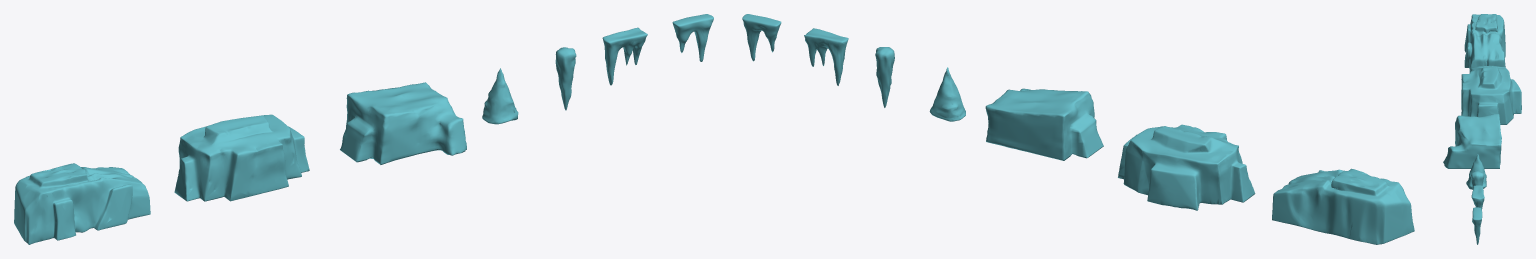
Rendered from glacier00.obj.
The picture shows the model from 3 angles, left to right: view 1: azimuth 30°, elevation 25°; view 2: azimuth 150°, elevation 25°; view 3: azimuth 270°, elevation 25°; orthographic projection. The views are drawn at different scales.
Parts seen in each view (by area): view 1: Cube, Cube.001, Cube.002, Cube.006, Cube.003, Cube.005, Cube.004; view 2: Cube, Cube.001, Cube.002, Cube.006, Cube.003, Cube.005, Cube.004; view 3: Cube, Cube.002, Cube.001, Cube.003, Cube.005, Cube.006, Cube.004.
Part boxes in pixels (x1=…): Cube: x1=174, y1=114, x2=309, y2=201; Cube.001: x1=14, y1=163, x2=150, y2=244; Cube.002: x1=340, y1=82, x2=466, y2=164; Cube.006: x1=602, y1=27, x2=647, y2=85; Cube.003: x1=482, y1=68, x2=518, y2=124; Cube.005: x1=672, y1=14, x2=713, y2=61; Cube.004: x1=555, y1=47, x2=576, y2=110; Cube: x1=1118, y1=124, x2=1255, y2=210; Cube.001: x1=1272, y1=168, x2=1414, y2=244; Cube.002: x1=985, y1=88, x2=1103, y2=160; Cube.006: x1=804, y1=28, x2=848, y2=85; Cube.003: x1=929, y1=67, x2=965, y2=121; Cube.005: x1=742, y1=14, x2=781, y2=61; Cube.004: x1=875, y1=47, x2=894, y2=107; Cube: x1=1461, y1=65, x2=1521, y2=124; Cube.002: x1=1443, y1=114, x2=1501, y2=168; Cube.001: x1=1464, y1=14, x2=1505, y2=72; Cube.003: x1=1466, y1=154, x2=1486, y2=189; Cube.005: x1=1472, y1=207, x2=1482, y2=244; Cube.006: x1=1471, y1=185, x2=1484, y2=209; Cube.004: x1=1471, y1=170, x2=1484, y2=189.
Size of the model in its own units: 63.67 by 5.49 by 9.75.
